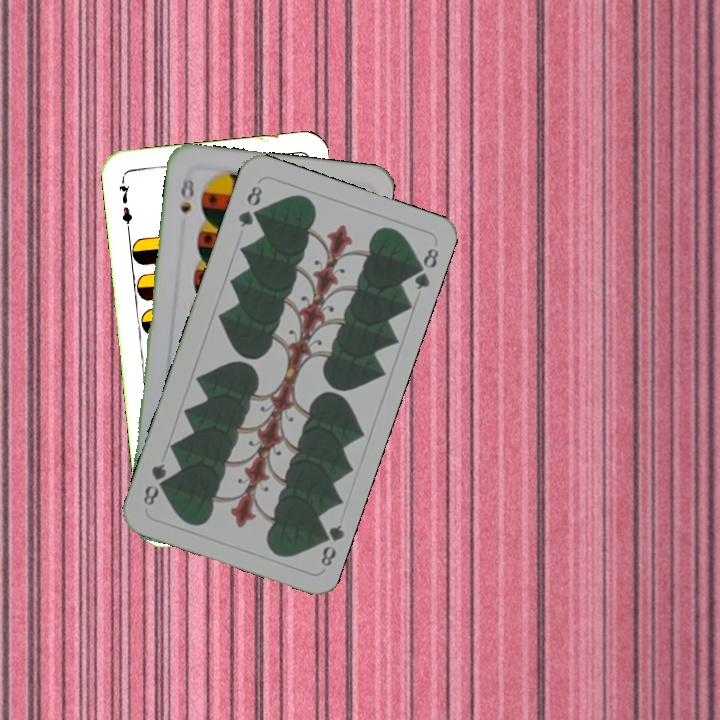E7: (114, 175, 135, 234)
G8: (313, 520, 346, 569), (234, 181, 265, 230)
S8: (176, 173, 197, 215)
